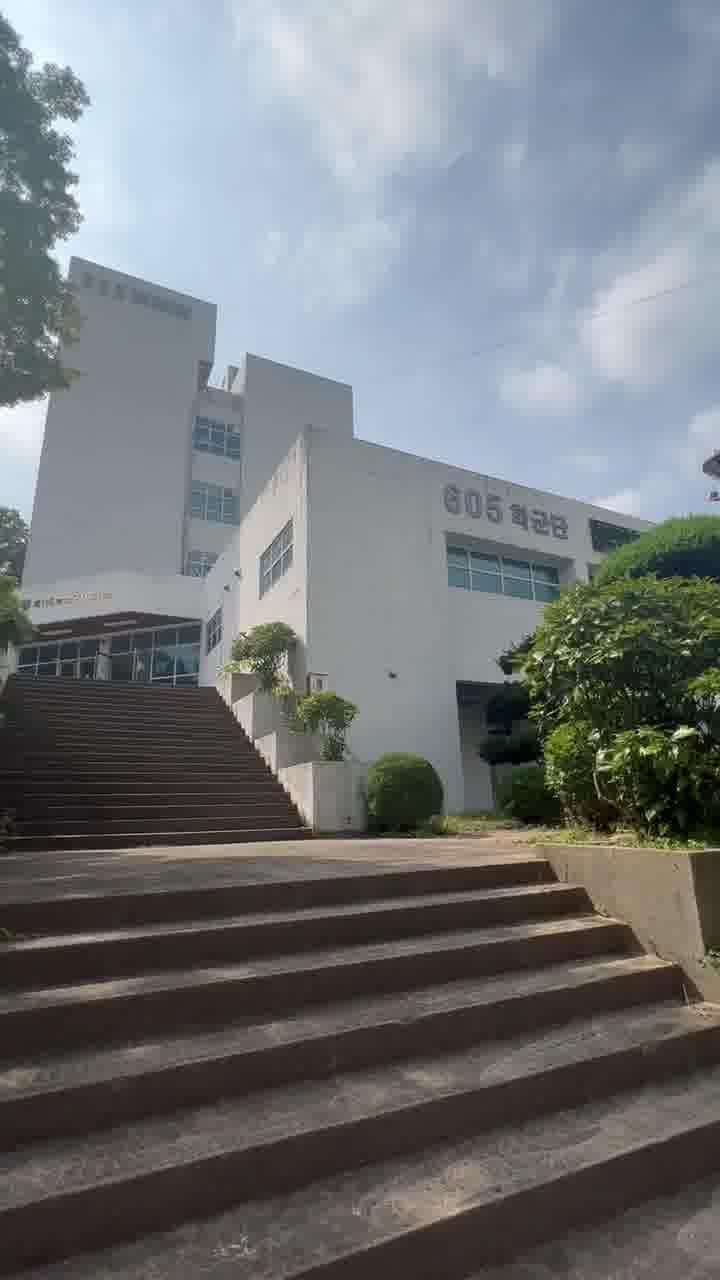building: (18, 240, 548, 844)
